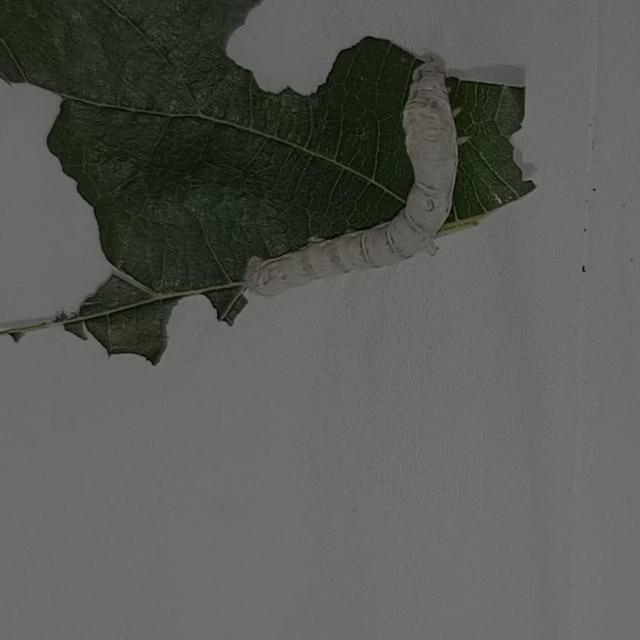Healthy: (228, 34, 498, 315)
